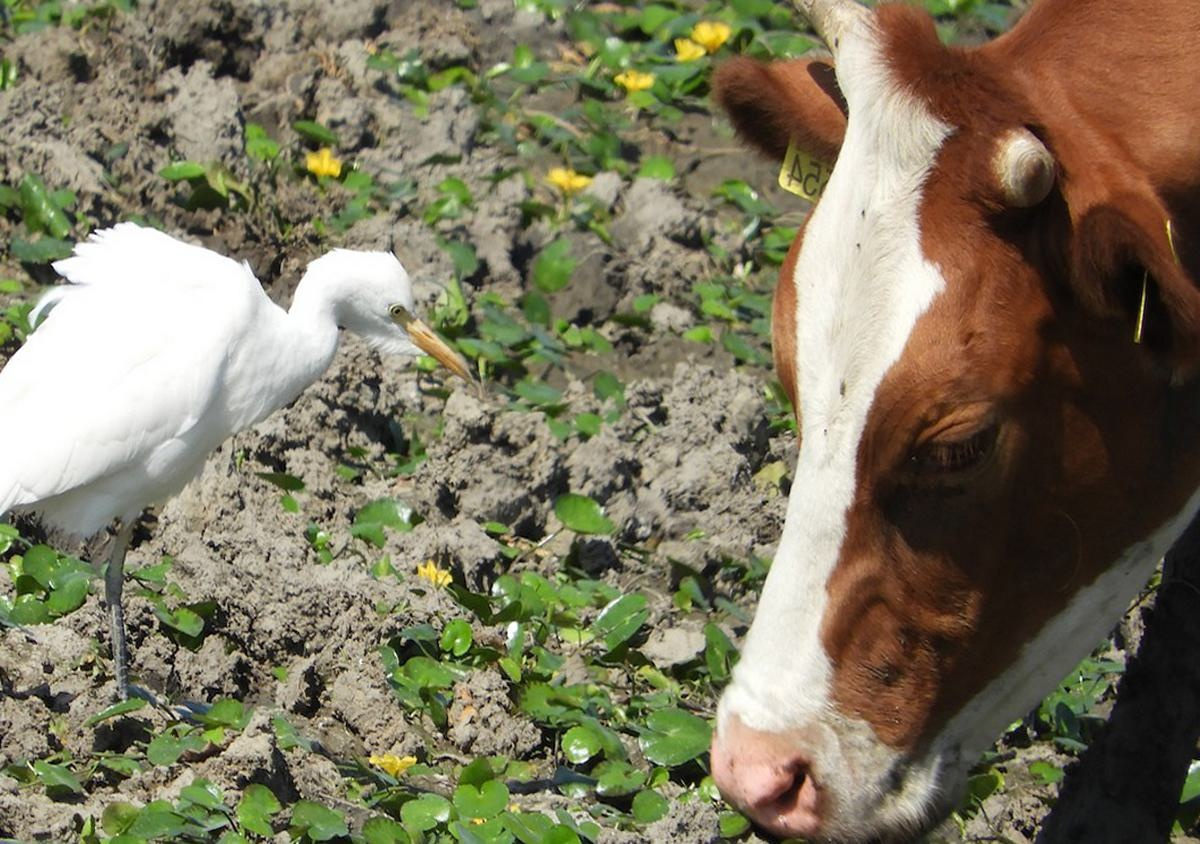egret: (1, 175, 533, 795)
